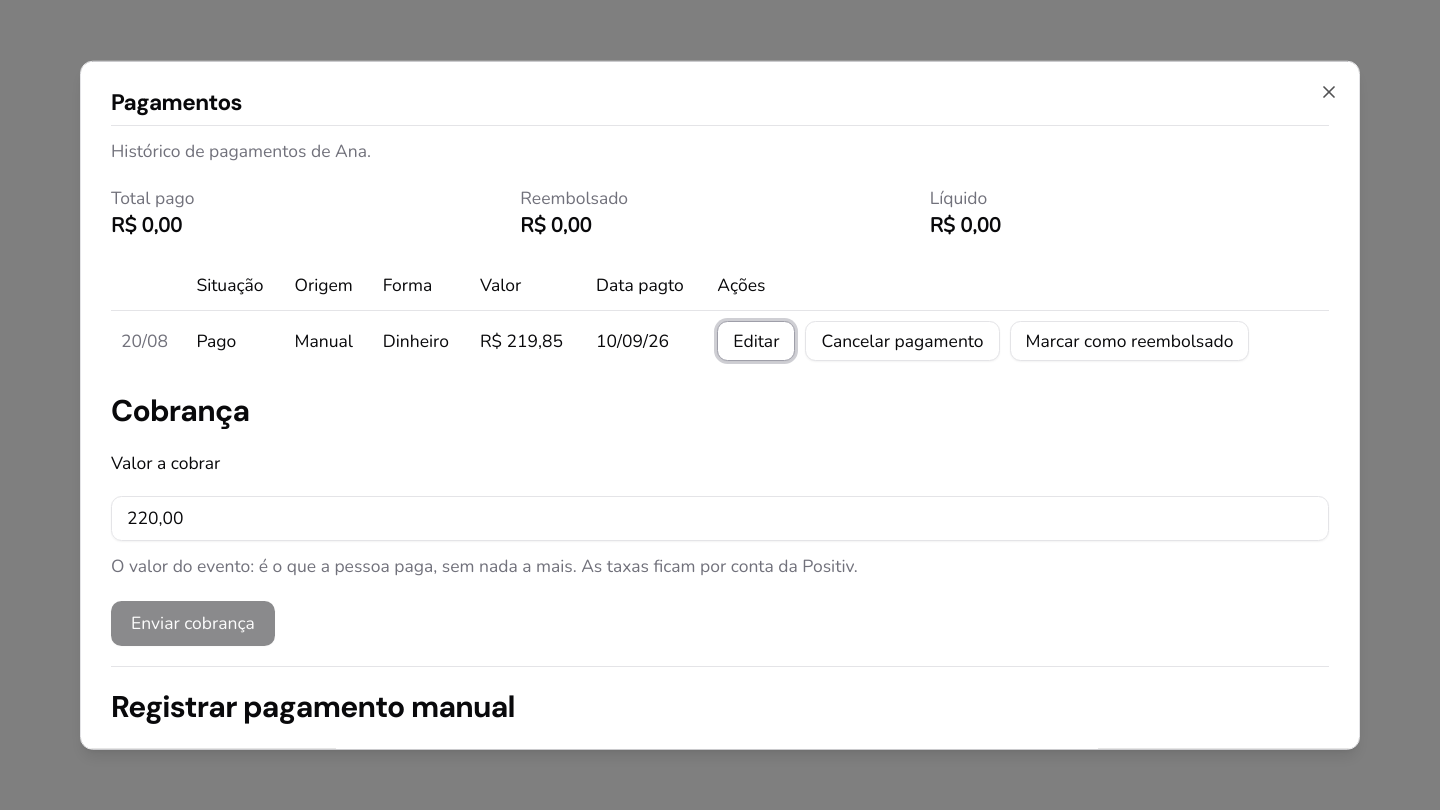
ManagePaymentModal - correcting a manual payment › refuses a second click while an edit is in flight
What coordinates should you click on to do the following:
click the button "Editar"
I would click on:
 (756, 341)
Its box is [717, 321, 795, 361].
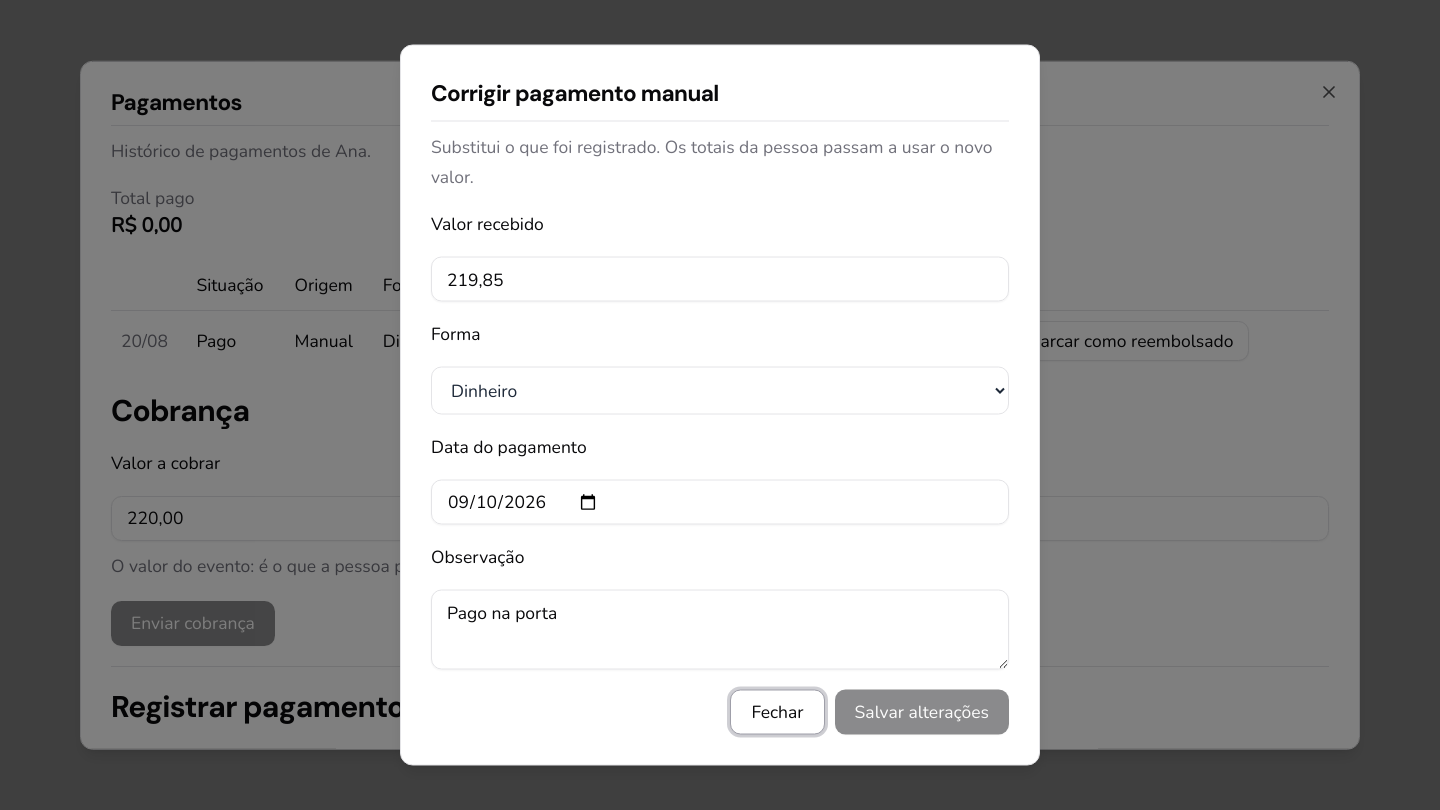
Now the button "Salvar alterações" is disabled, box [835, 690, 1009, 734]
